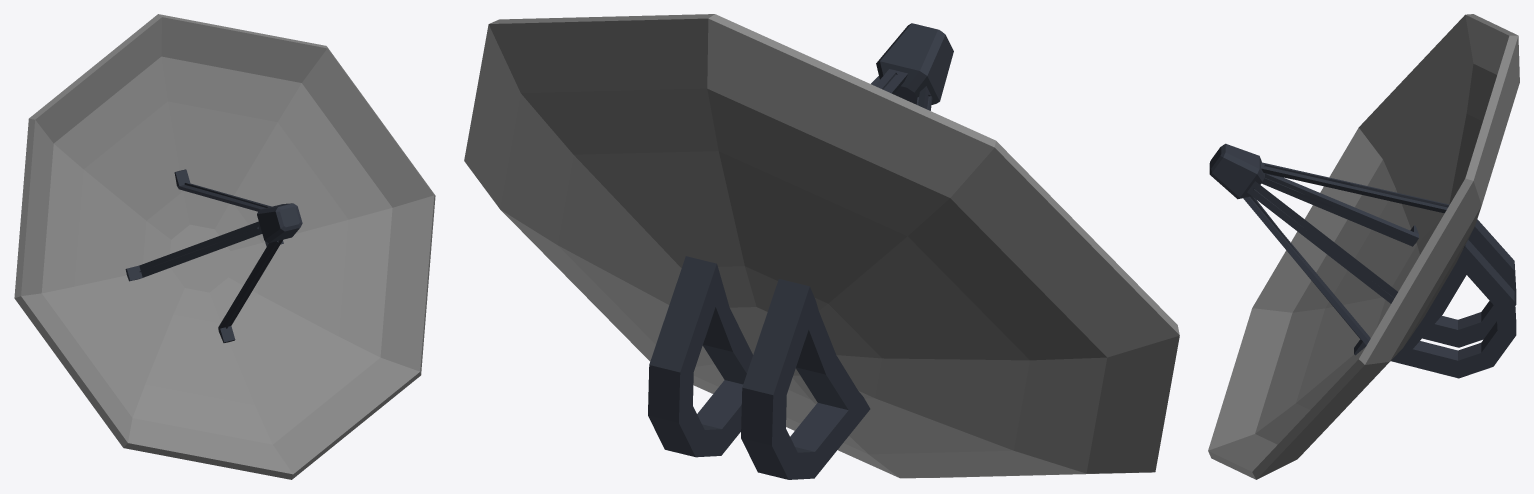
File: 科技转.fbx
The picture shows the model from 3 angles, left to right: view 1: azimuth 30°, elevation 25°; view 2: azimuth 150°, elevation 25°; view 3: azimuth 270°, elevation 25°; orthographic projection. The views are drawn at different scales.
Parts seen in each view (by area): view 1: 柱体.004; view 2: 柱体.004; view 3: 柱体.004.
Part boxes in pixels (left/top/right/bottom): 柱体.004: left=14, top=14, right=435, bottom=479; 柱体.004: left=464, top=14, right=1179, bottom=479; 柱体.004: left=1208, top=14, right=1519, bottom=479.
Size of the model in its own units: 307 by 256 by 171.
1 material, 1 textured.
